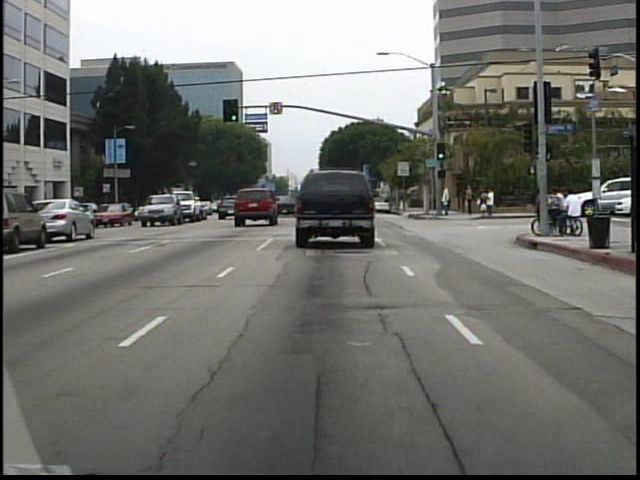person: (462, 182, 476, 218), (438, 182, 452, 218), (398, 186, 410, 213)
